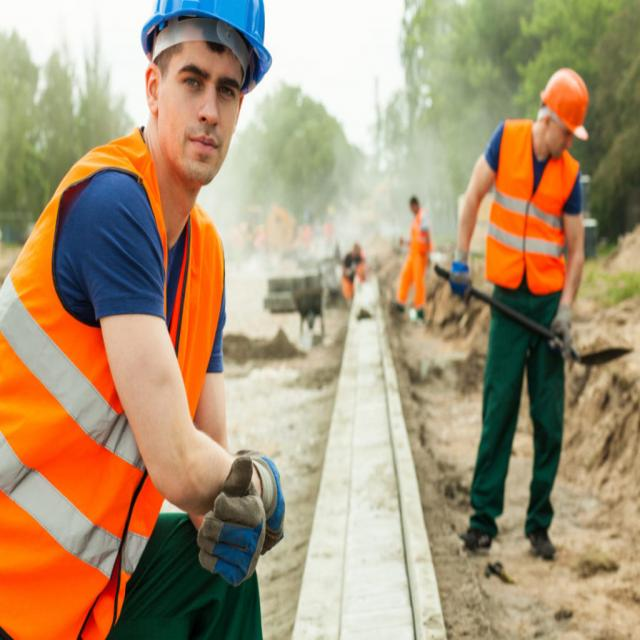Reflective-Jacket: (0, 136, 224, 629), (481, 123, 582, 296), (392, 213, 442, 310)
Safety-Helmet: (136, 0, 274, 93), (539, 66, 591, 140)
